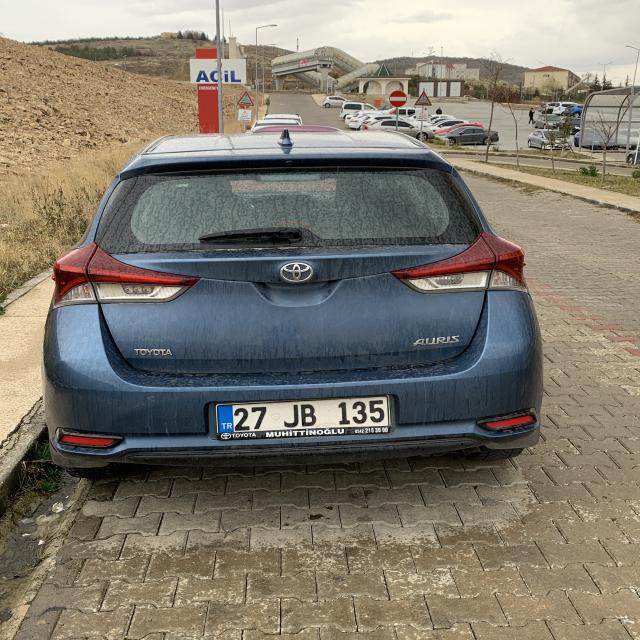license_plate: (216, 397, 391, 432)
